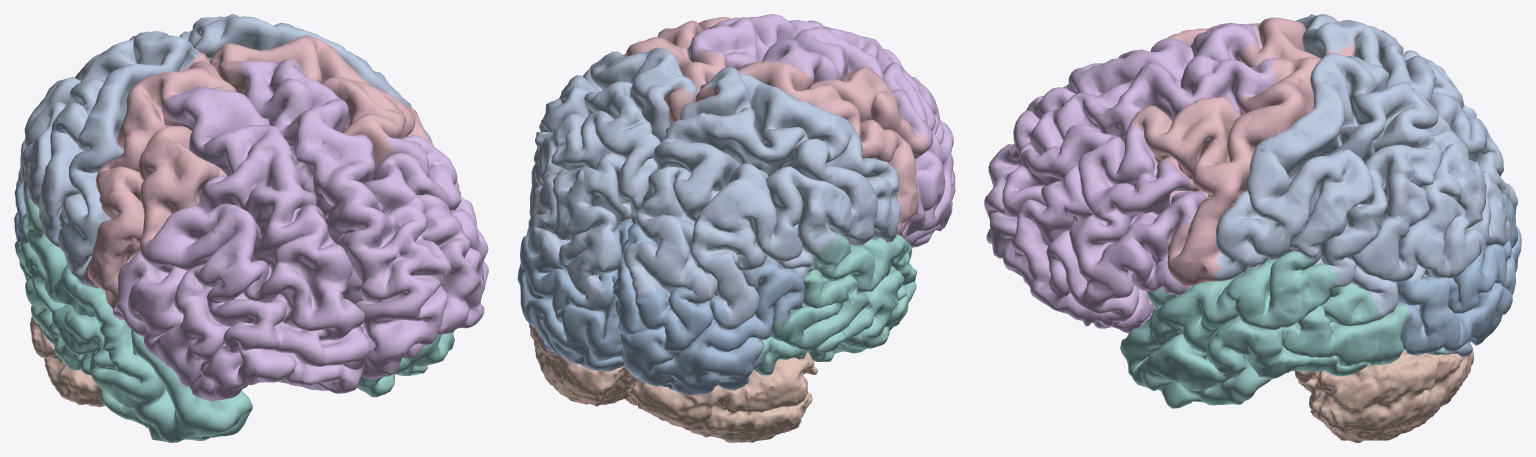
File: brain-atlas.glb
3 views of the same model, side by side, from view 1: azimuth 30°, elevation 25°; view 2: azimuth 150°, elevation 25°; view 3: azimuth 270°, elevation 25° (orthographic). The views are drawn at different scales.
Visible parts, largest first — view 1: prefrontal-cortex, frontal-lobe, parietal-lobe, temporal-lobe, cerebellum, occipital-lobe; view 2: parietal-lobe, occipital-lobe, prefrontal-cortex, temporal-lobe, cerebellum, frontal-lobe; view 3: parietal-lobe, prefrontal-cortex, temporal-lobe, frontal-lobe, cerebellum, occipital-lobe.
Part boxes in pixels (left/top/right/bottom): prefrontal-cortex: left=112, top=58, right=488, bottom=401; frontal-lobe: left=85, top=35, right=433, bottom=308; parietal-lobe: left=15, top=14, right=433, bottom=288; temporal-lobe: left=17, top=194, right=454, bottom=442; cerebellum: left=30, top=316, right=256, bottom=407; occipital-lobe: left=14, top=173, right=25, bottom=272; parietal-lobe: left=527, top=47, right=901, bottom=329; occipital-lobe: left=517, top=220, right=804, bottom=395; prefrontal-cortex: left=687, top=14, right=955, bottom=247; temporal-lobe: left=527, top=228, right=916, bottom=375; cerebellum: left=529, top=323, right=817, bottom=442; frontal-lobe: left=622, top=17, right=929, bottom=238; parietal-lobe: left=1211, top=14, right=1517, bottom=316; prefrontal-cortex: left=984, top=23, right=1278, bottom=333; temporal-lobe: left=1120, top=250, right=1447, bottom=408; frontal-lobe: left=1127, top=17, right=1359, bottom=285; cerebellum: left=1294, top=341, right=1473, bottom=442; occipital-lobe: left=1397, top=159, right=1521, bottom=357.
Size of what is drawn, in the model's own units: 131 by 129 by 173.
